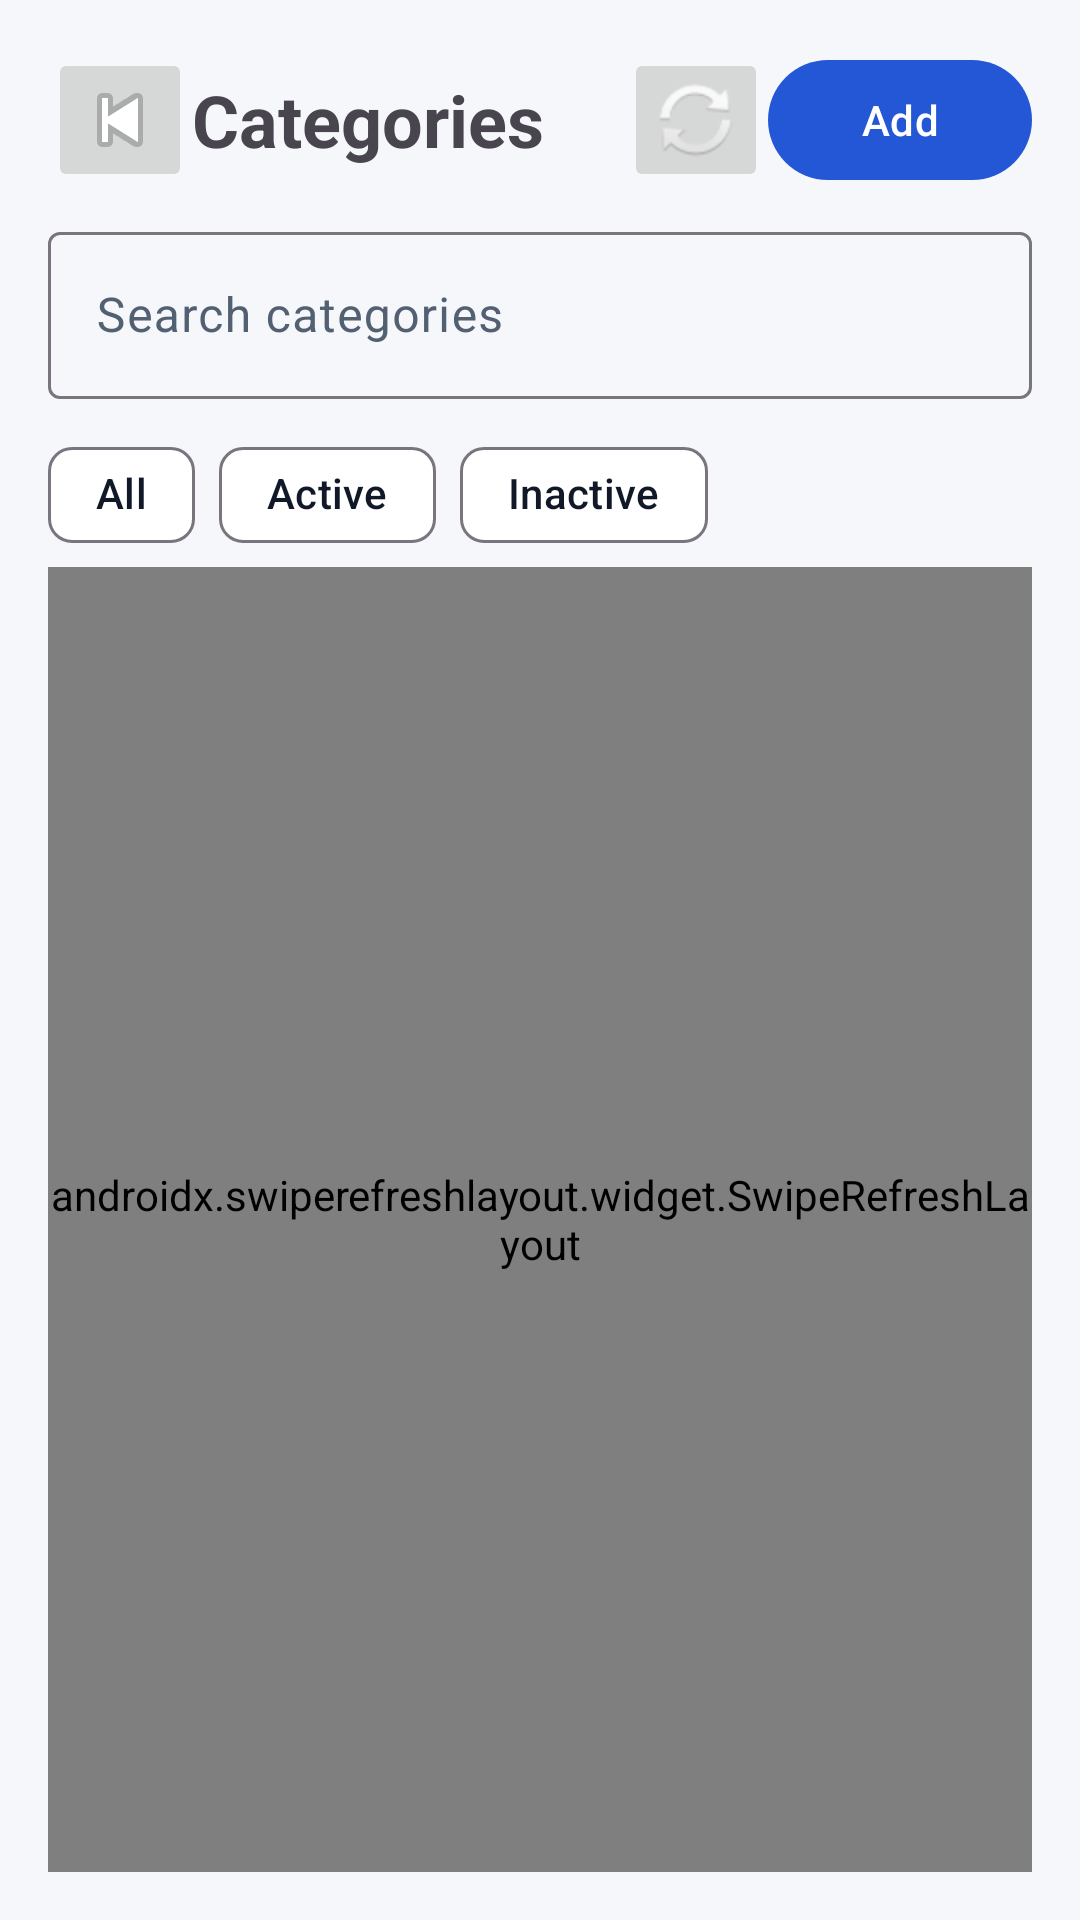

Named icons in this screenshot (1080 x 1920) and their bounding boxes, (x1, y1, x2, y2):
Back: (60, 66, 180, 174)
Refresh: (636, 66, 756, 174)
